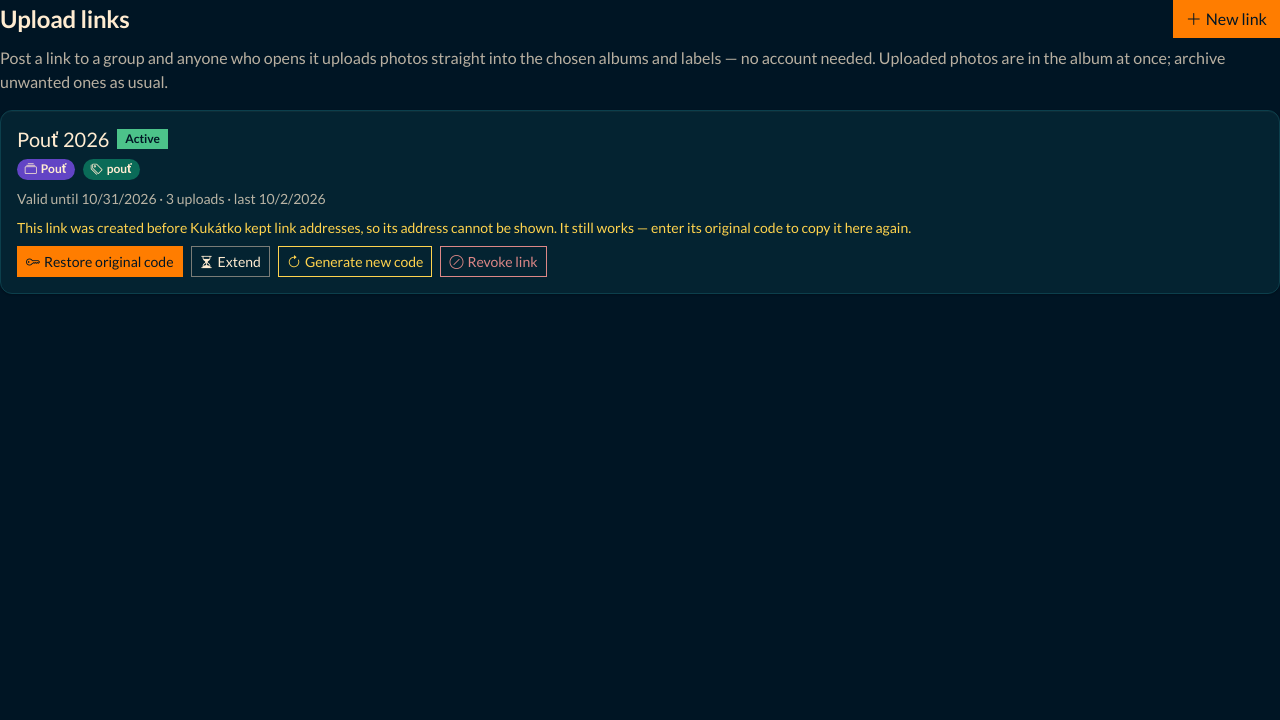
it: UploadLinksPage › restores the original code, and says so plainly on a mismatch
Click the button "Restore original code" at (100, 261), box [17, 246, 182, 277]
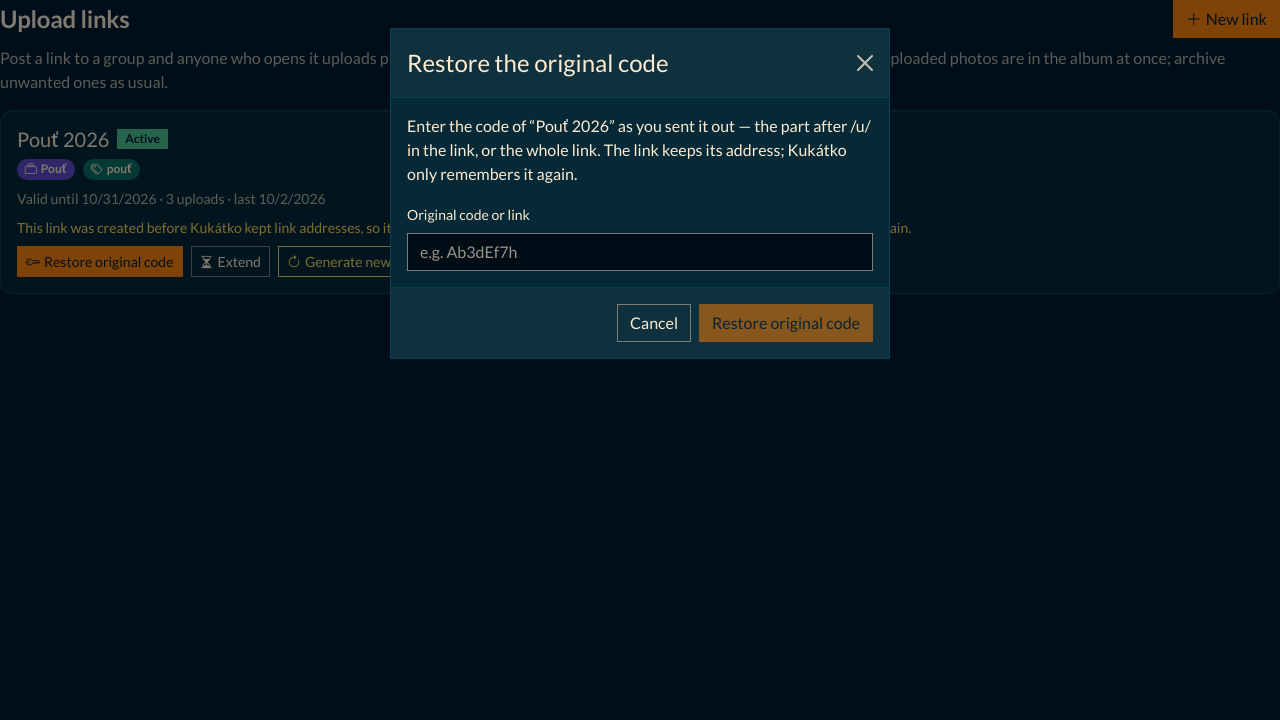
Type "Zz9Zz9Zz" into the field labelled "Original code or link" at (640, 252), box [407, 233, 873, 271]
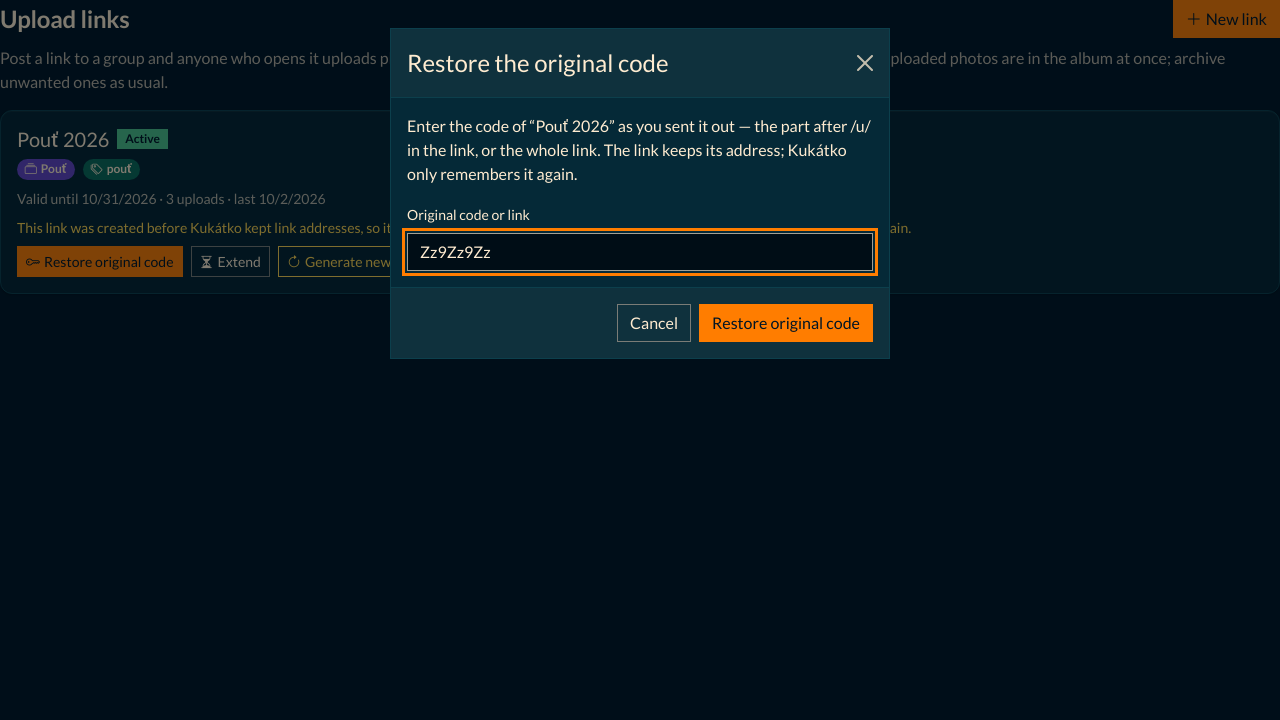
Click the button "Restore original code" at (786, 323), box [699, 304, 873, 342]
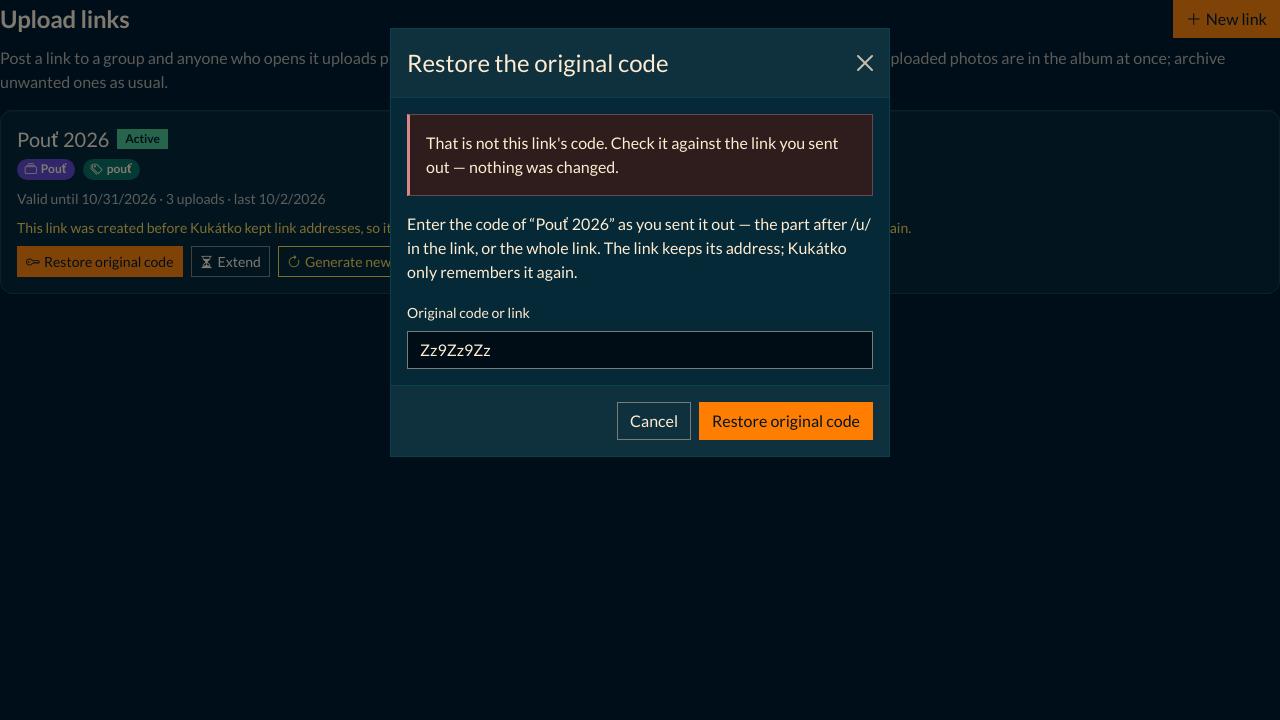
Expected: the message with test id "upload-link-restore-error" shows "not this link's code", [426, 133, 838, 176]
Replace the text in the field labelled "Original code or link" with "https://fotky.example/u/Ab3dEf7h" at (640, 350), box [407, 331, 873, 369]
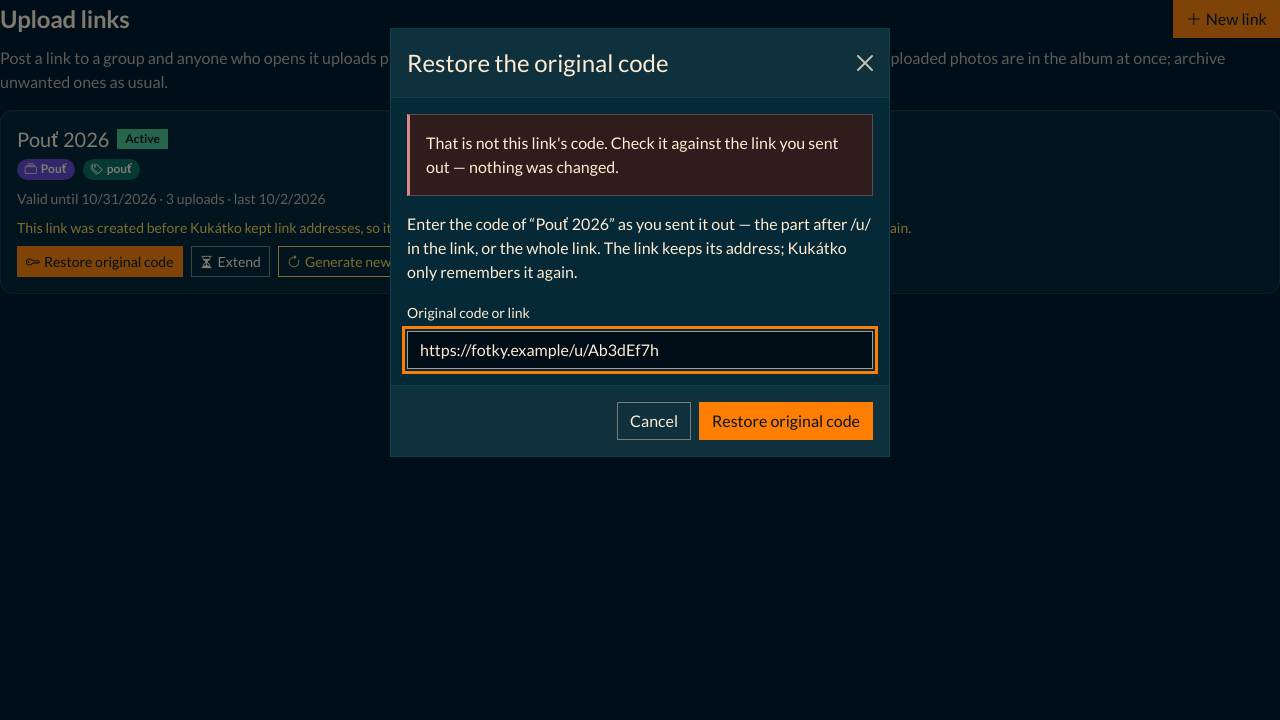
Click the button "Restore original code" at (786, 421), box [699, 402, 873, 440]
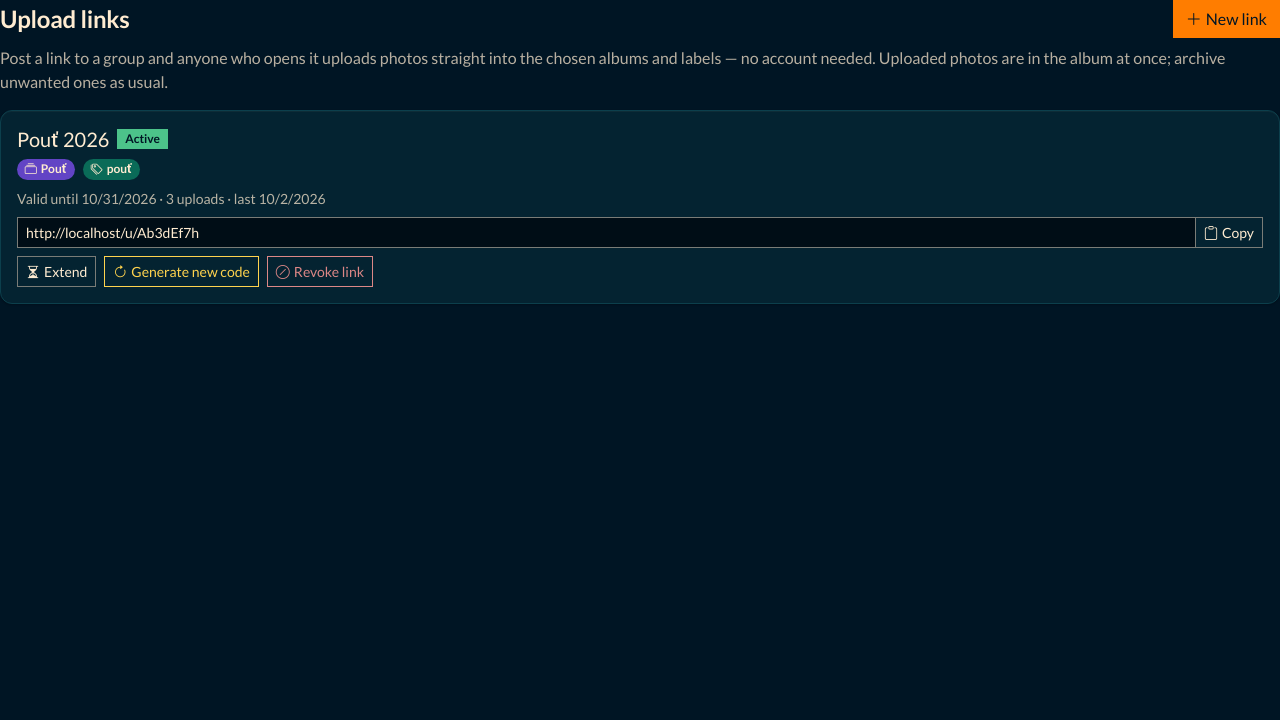
Expected: the button "Copy" is shown, [1195, 217, 1263, 248]
Expected: the dialog is gone
